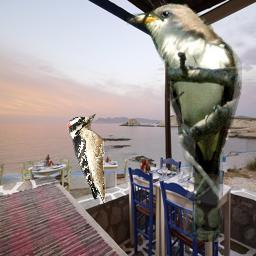Cuckoo: (127, 3, 242, 242)
Woodpecker: (67, 114, 107, 203)
